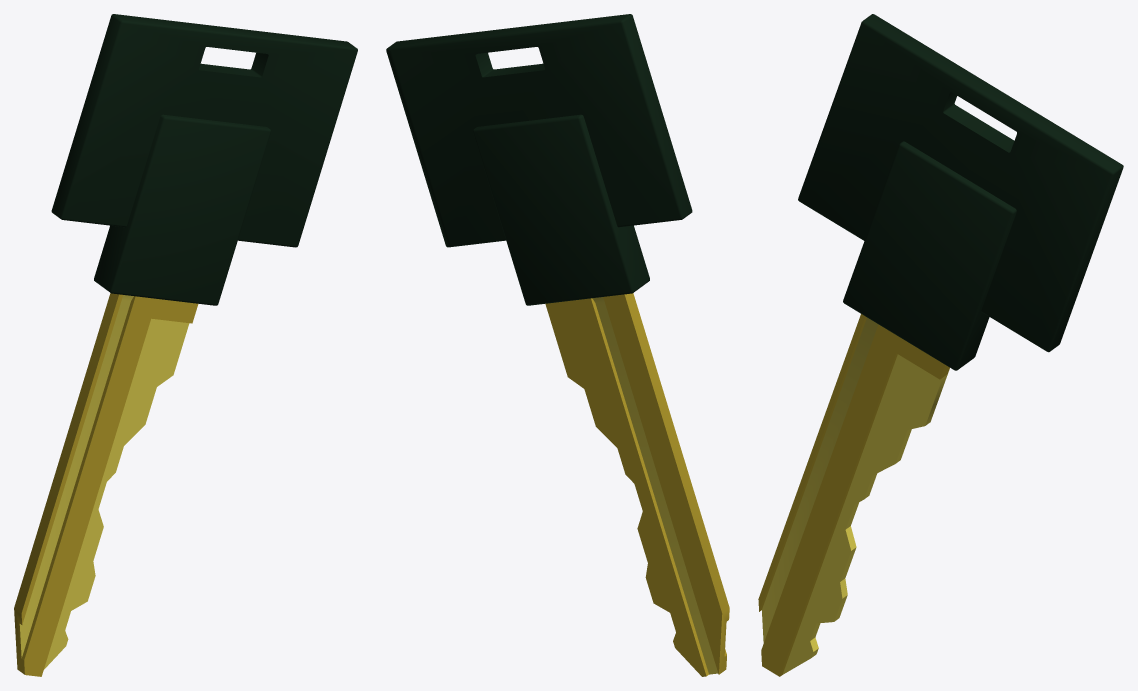
Rendered from key.glb.
3 renders of one model, left to right at view 1: azimuth 30°, elevation 25°; view 2: azimuth 150°, elevation 25°; view 3: azimuth 330°, elevation 25°, orthographic. The views are drawn at different scales.
Visible parts, largest first — view 1: Key11.001; view 2: Key11.001; view 3: Key11.001.
Part boxes in pixels (x1,y1,x2,y2): Key11.001: (14, 14, 357, 676); Key11.001: (386, 14, 729, 676); Key11.001: (758, 14, 1123, 676).
Size of the model in its own units: 0.6003 by 1.09 by 0.0564.
1 material, 1 textured.
